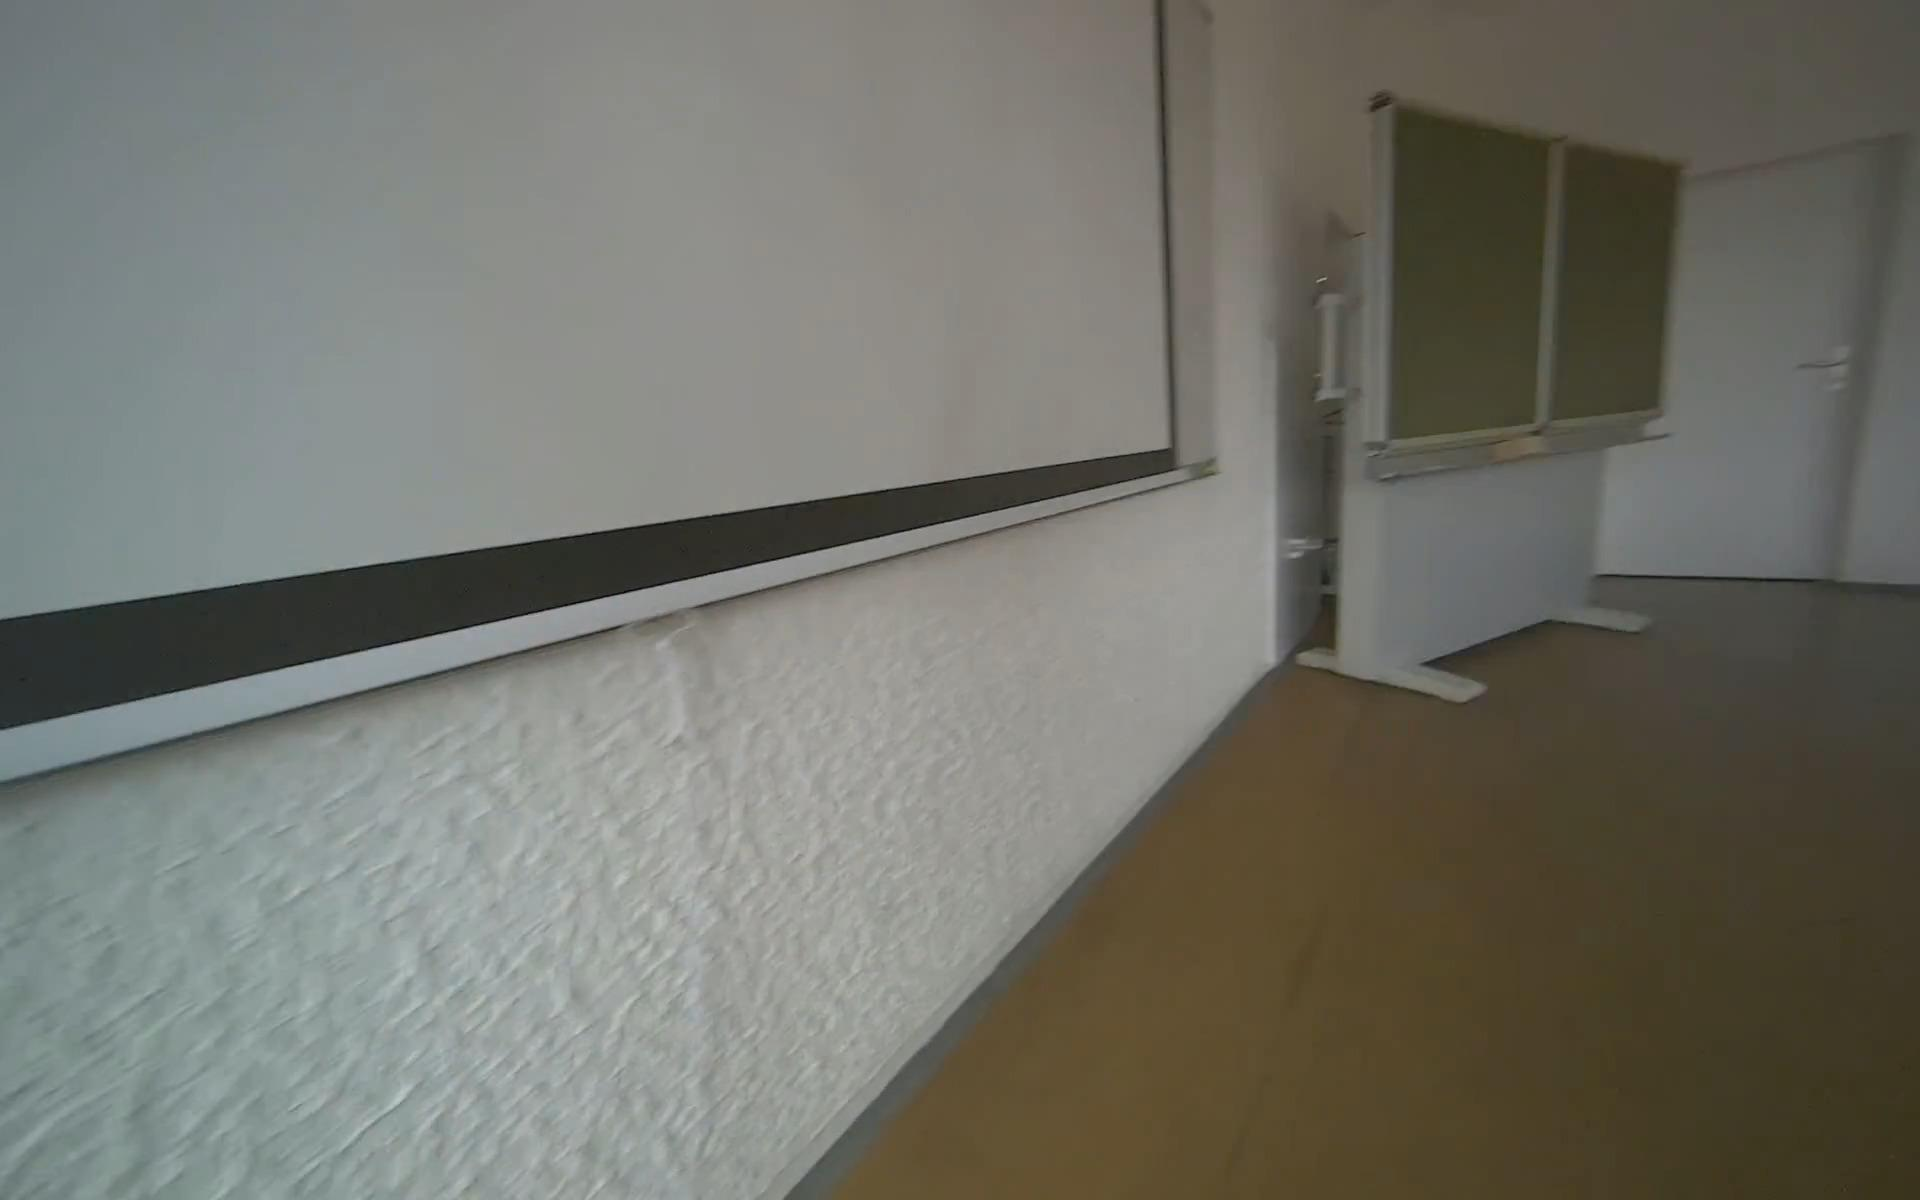doors: (1610, 131, 1902, 610)
